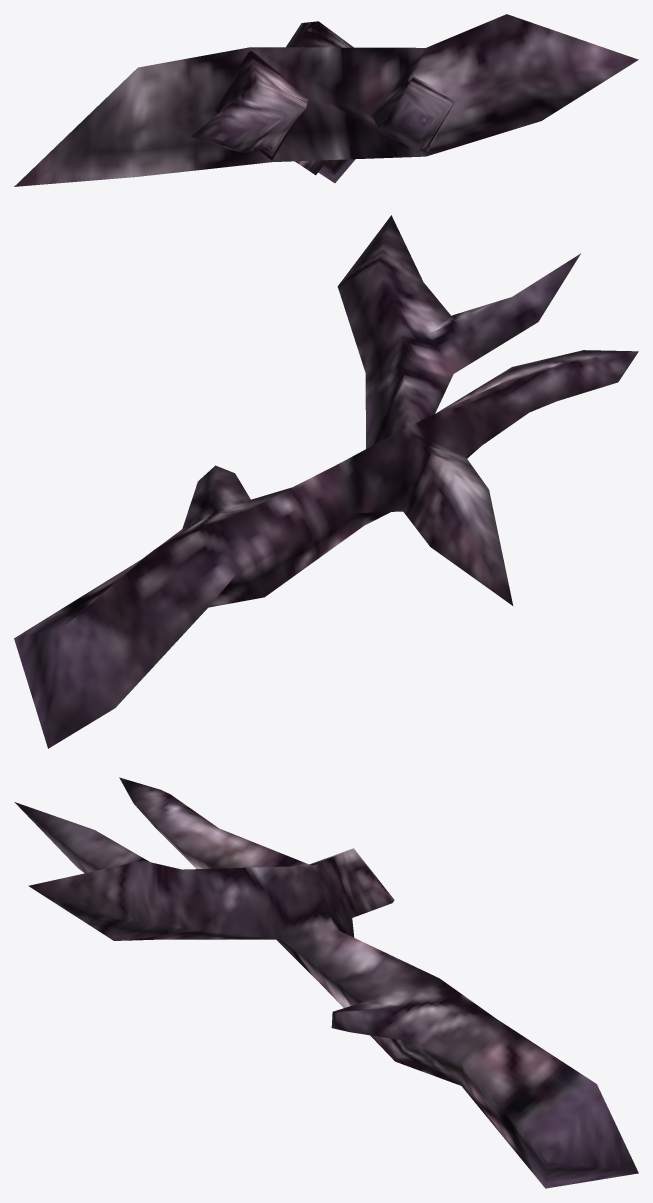
File: condra_7_cone_right.glb
3 views of the same model, one above another, from view 1: azimuth 30°, elevation 25°; view 2: azimuth 150°, elevation 25°; view 3: azimuth 270°, elevation 25° (orthographic). The views are drawn at different scales.
Visible parts, largest first — view 1: model_condra_7_cone_right; view 2: model_condra_7_cone_right; view 3: model_condra_7_cone_right.
Boxes of the visible parts, x1,y1,x2,y2 form: model_condra_7_cone_right: (14, 14, 638, 186); model_condra_7_cone_right: (14, 215, 638, 748); model_condra_7_cone_right: (14, 777, 638, 1188).
Bounding box in the file's own units: 0.6873 × 0.4947 × 0.9519.
1 material, 1 textured.
